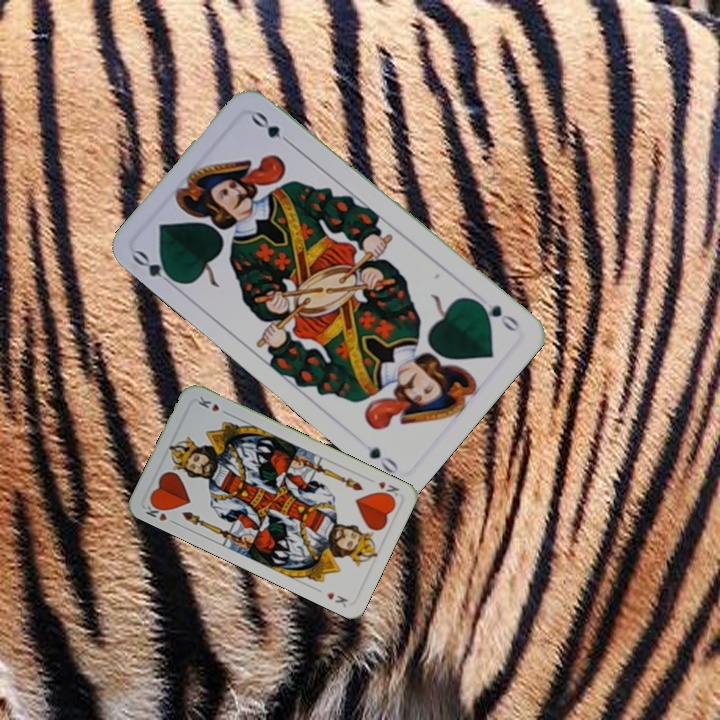GO: (128, 246, 182, 291), (470, 295, 523, 334)
HK: (141, 498, 179, 527), (374, 477, 402, 495)
